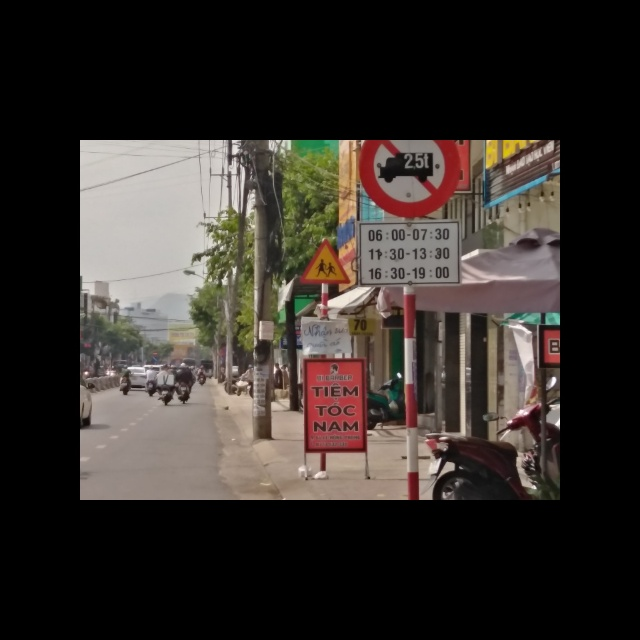Cấm xe tải: (356, 140, 464, 221)
Trẻ em ngang qua: (303, 240, 355, 285)
